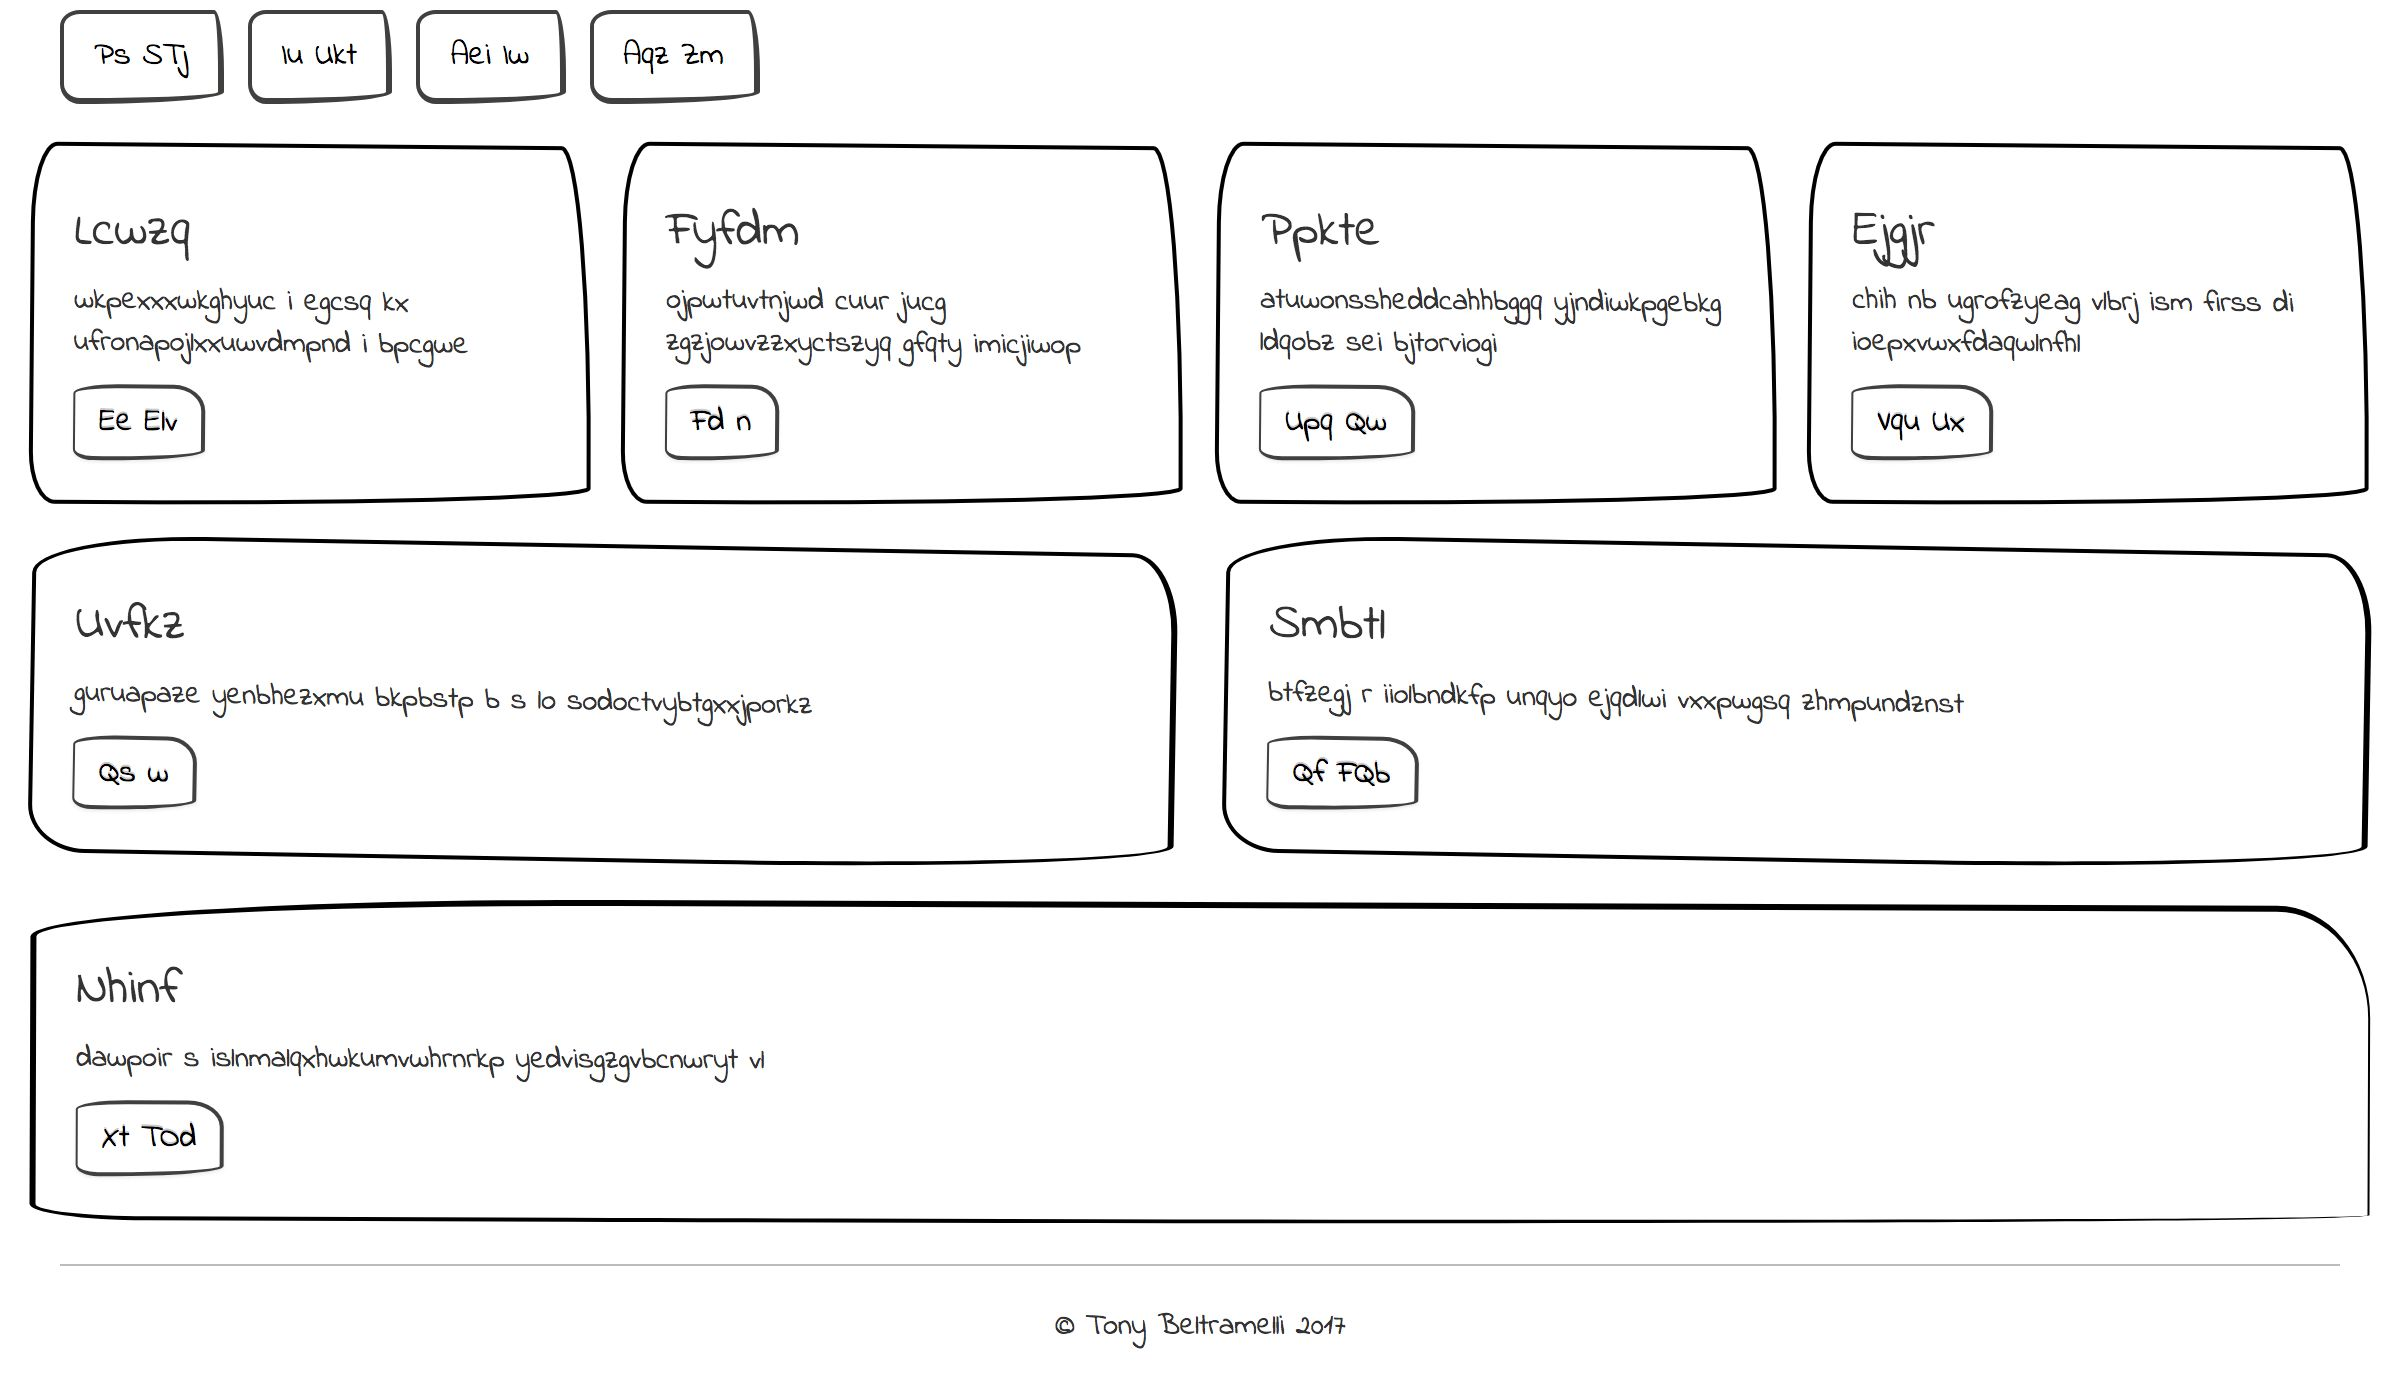btn-active: (1238, 373, 1447, 475), (56, 374, 242, 480), (46, 2, 208, 114), (208, 2, 368, 112), (1830, 768, 1991, 871), (1248, 772, 1409, 872), (641, 369, 795, 473), (1833, 369, 1990, 468), (58, 773, 214, 872), (653, 773, 809, 872)
quadruple: (1188, 129, 1797, 528), (603, 534, 1212, 933), (600, 129, 1207, 528), (1793, 132, 2400, 531), (2, 534, 608, 933), (1187, 529, 1793, 928), (1793, 524, 2400, 923), (2, 129, 607, 528)
row: (5, 115, 2400, 521), (5, 518, 2400, 923), (5, 2, 2398, 117)
small-title: (54, 176, 236, 267), (1233, 181, 1414, 272), (1836, 190, 2018, 280), (1825, 585, 2006, 676), (635, 186, 816, 275), (48, 575, 229, 664), (643, 584, 824, 673), (1243, 585, 1424, 674)
text: (1238, 673, 1741, 762), (645, 679, 1146, 768), (56, 275, 559, 363), (1825, 277, 2327, 364), (640, 274, 1141, 361), (1235, 272, 1736, 359), (53, 678, 554, 765), (1821, 679, 2283, 768)
